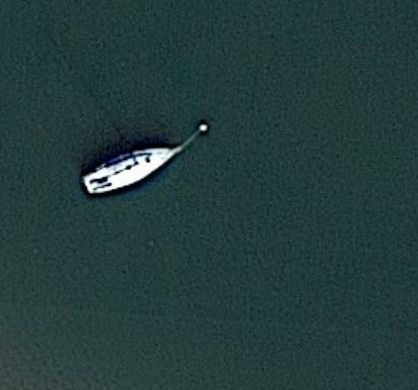boat: (80, 143, 188, 199)
